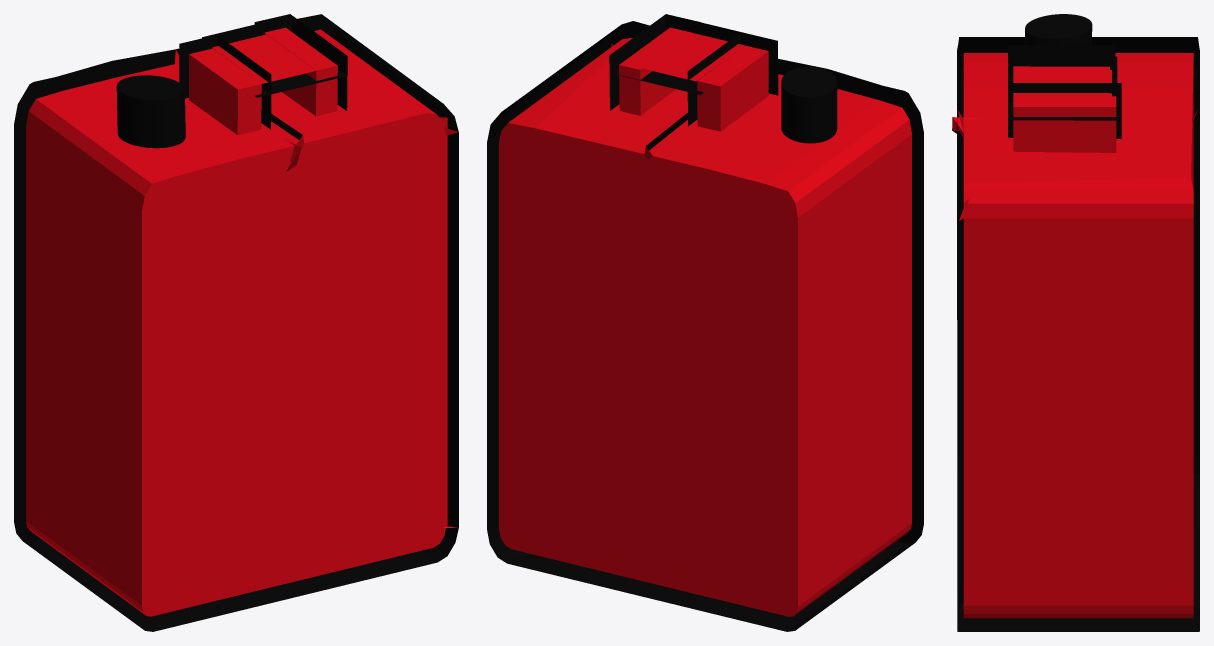
File: NOSE.fbx
3 views of the same model, side by side, from view 1: azimuth 30°, elevation 25°; view 2: azimuth 150°, elevation 25°; view 3: azimuth 270°, elevation 25° (orthographic).
Parts seen in each view (by area): view 1: Cube, Cylinder; view 2: Cube, Cylinder; view 3: Cube, Cylinder.
Part boxes in pixels (x1,y1,x2,y2): Cube: [14, 14, 458, 631]; Cylinder: [116, 75, 185, 148]; Cube: [487, 14, 923, 631]; Cylinder: [781, 66, 837, 143]; Cube: [952, 37, 1199, 631]; Cylinder: [1024, 14, 1092, 44].
Bounding box in the file's own units: 1.25 × 1.86 × 0.8377.
